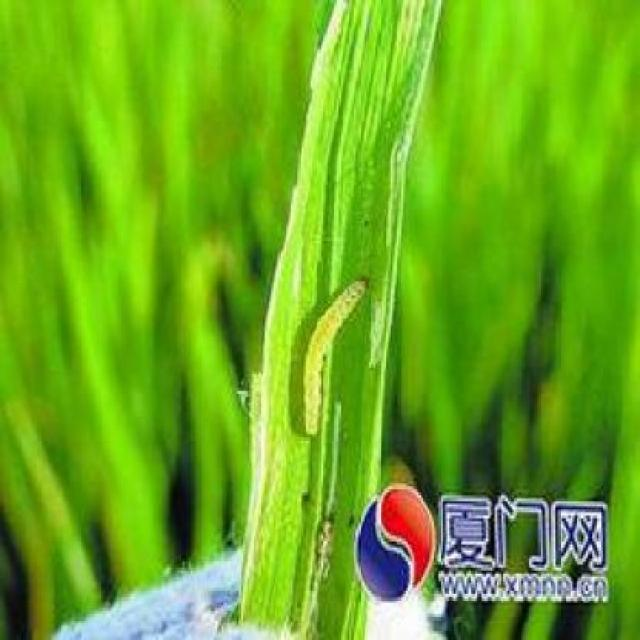leaf-folder: (283, 246, 379, 463)
